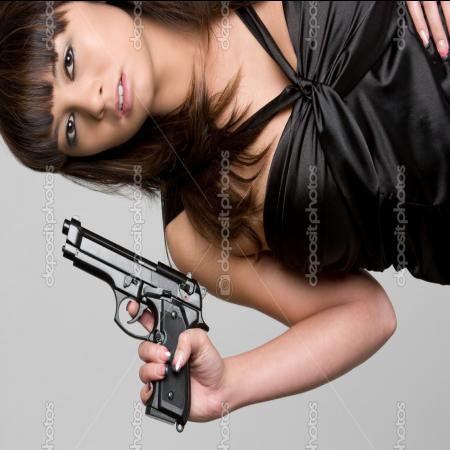Pistol: (58, 216, 208, 430)
